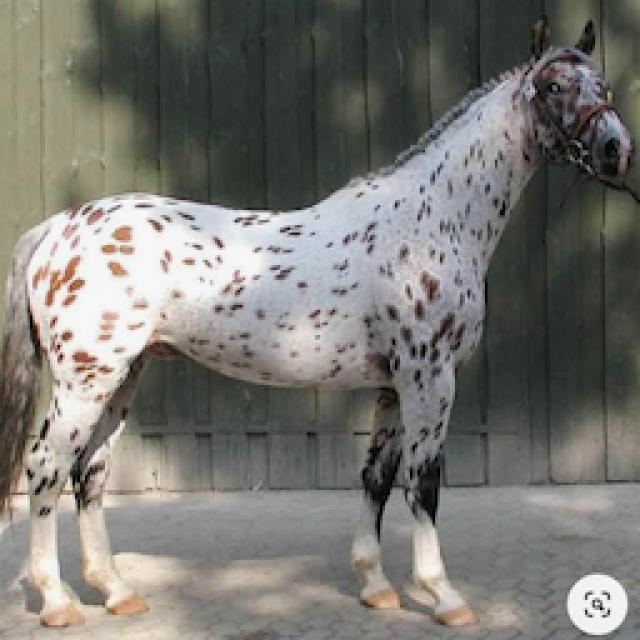Horse: (0, 15, 638, 635)
